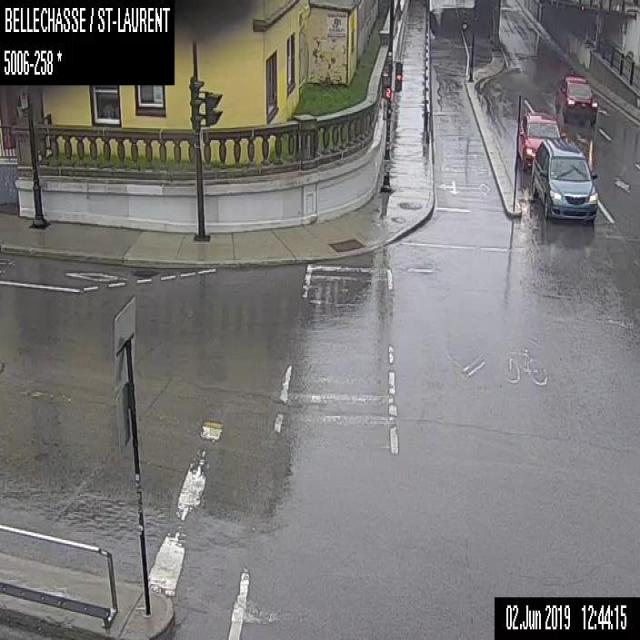vehicle: (531, 138, 597, 221), (517, 111, 565, 169), (555, 75, 597, 125)
